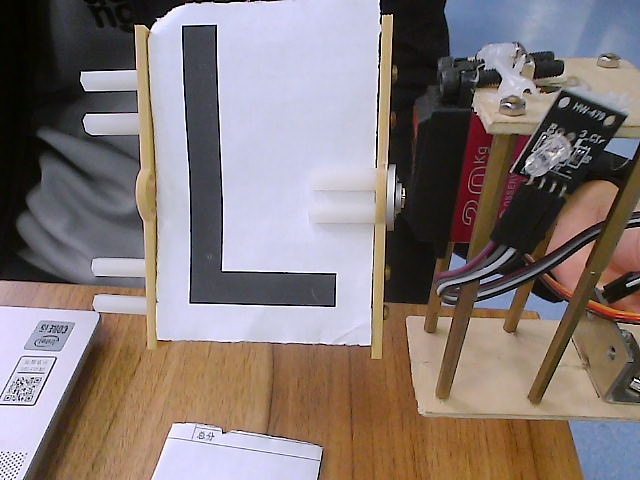L: (75, 1, 420, 363)
